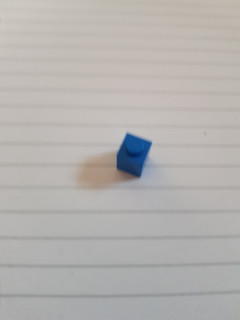1x1 blue: (115, 130, 154, 180)
